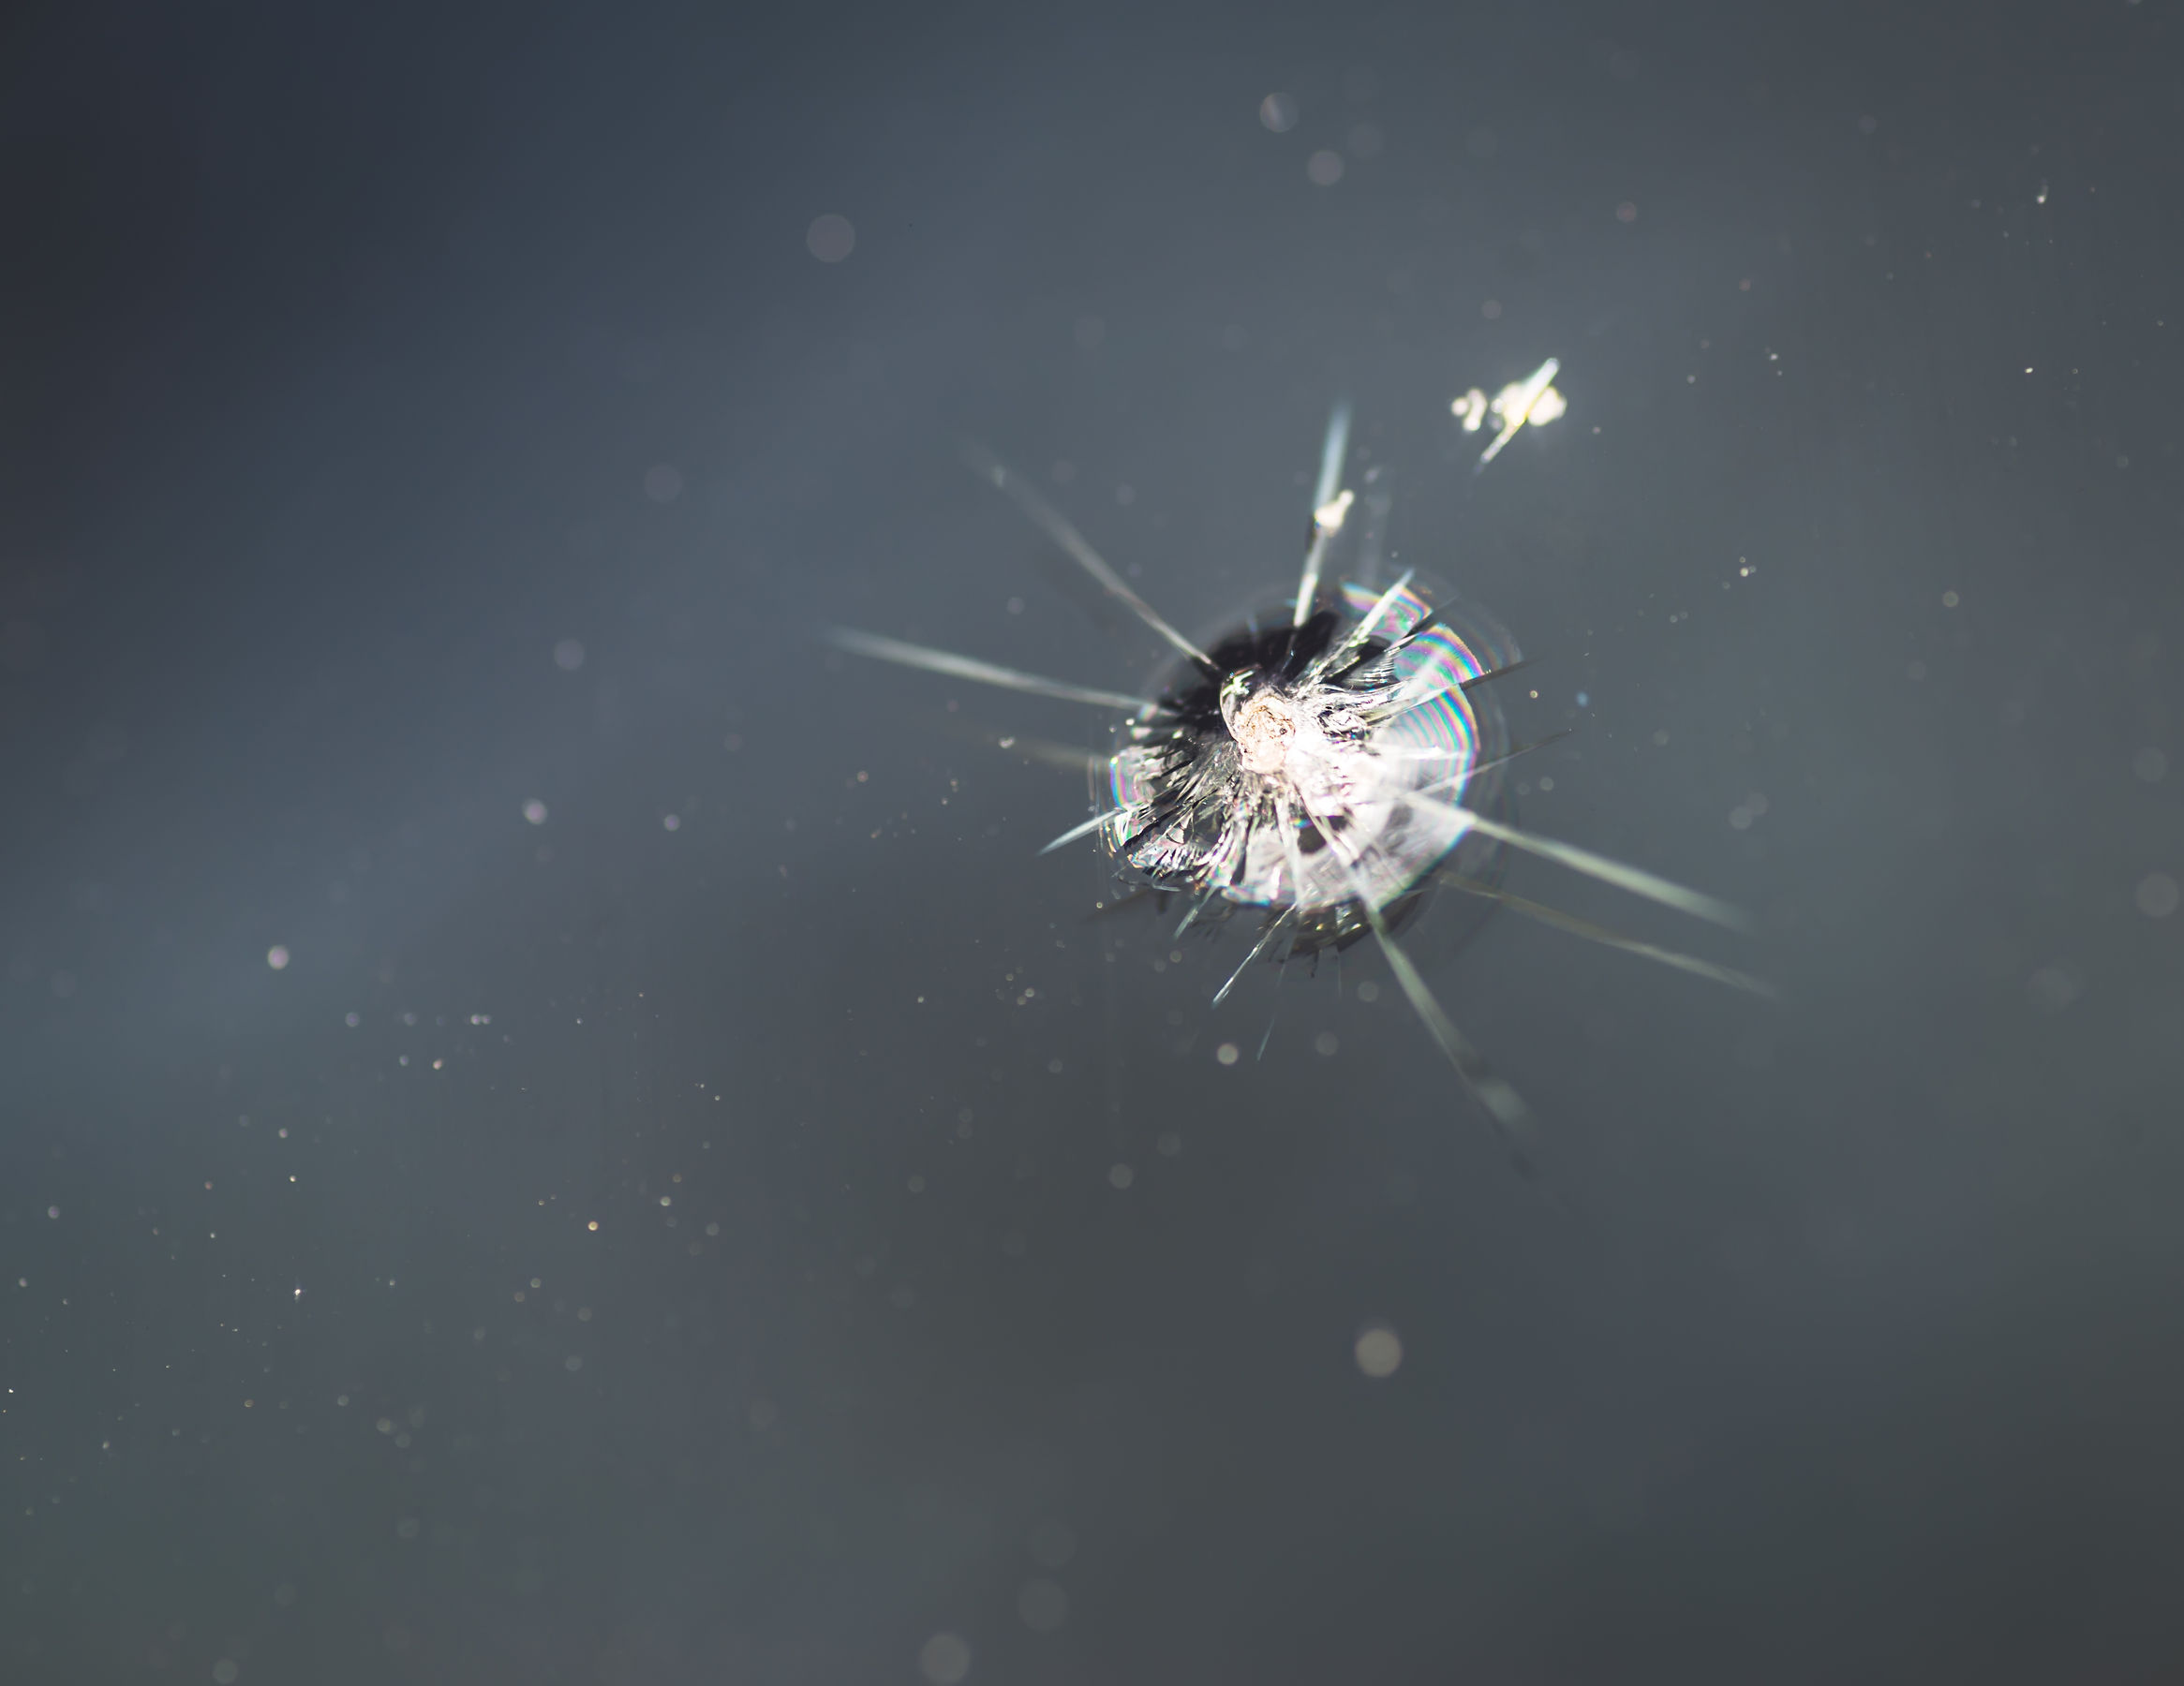bullseye: (813, 344, 1819, 1109)
